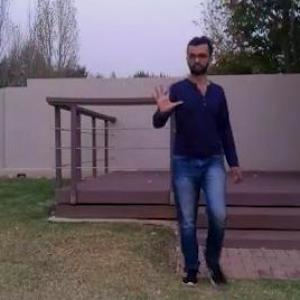follow_hand: (147, 80, 184, 116)
